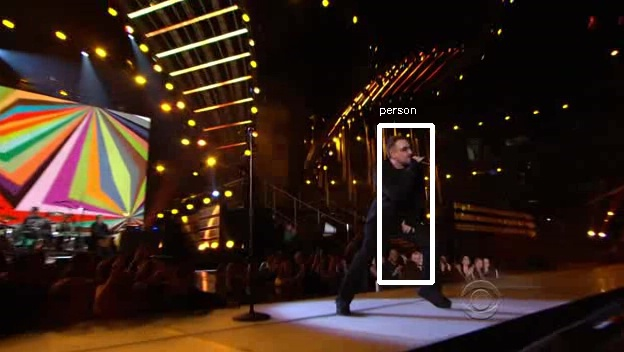person: (364, 137, 436, 265), (361, 137, 433, 265), (367, 137, 439, 265), (364, 134, 436, 262), (364, 140, 436, 268)
target_negative: (224, 187, 622, 302), (307, 227, 546, 303), (446, 81, 519, 193), (424, 319, 619, 348), (100, 301, 173, 302)
